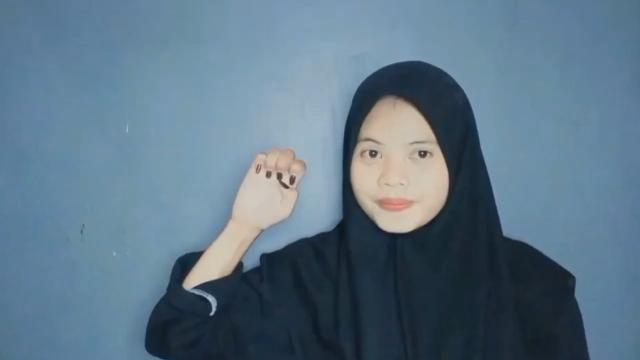E: (229, 144, 307, 234)
